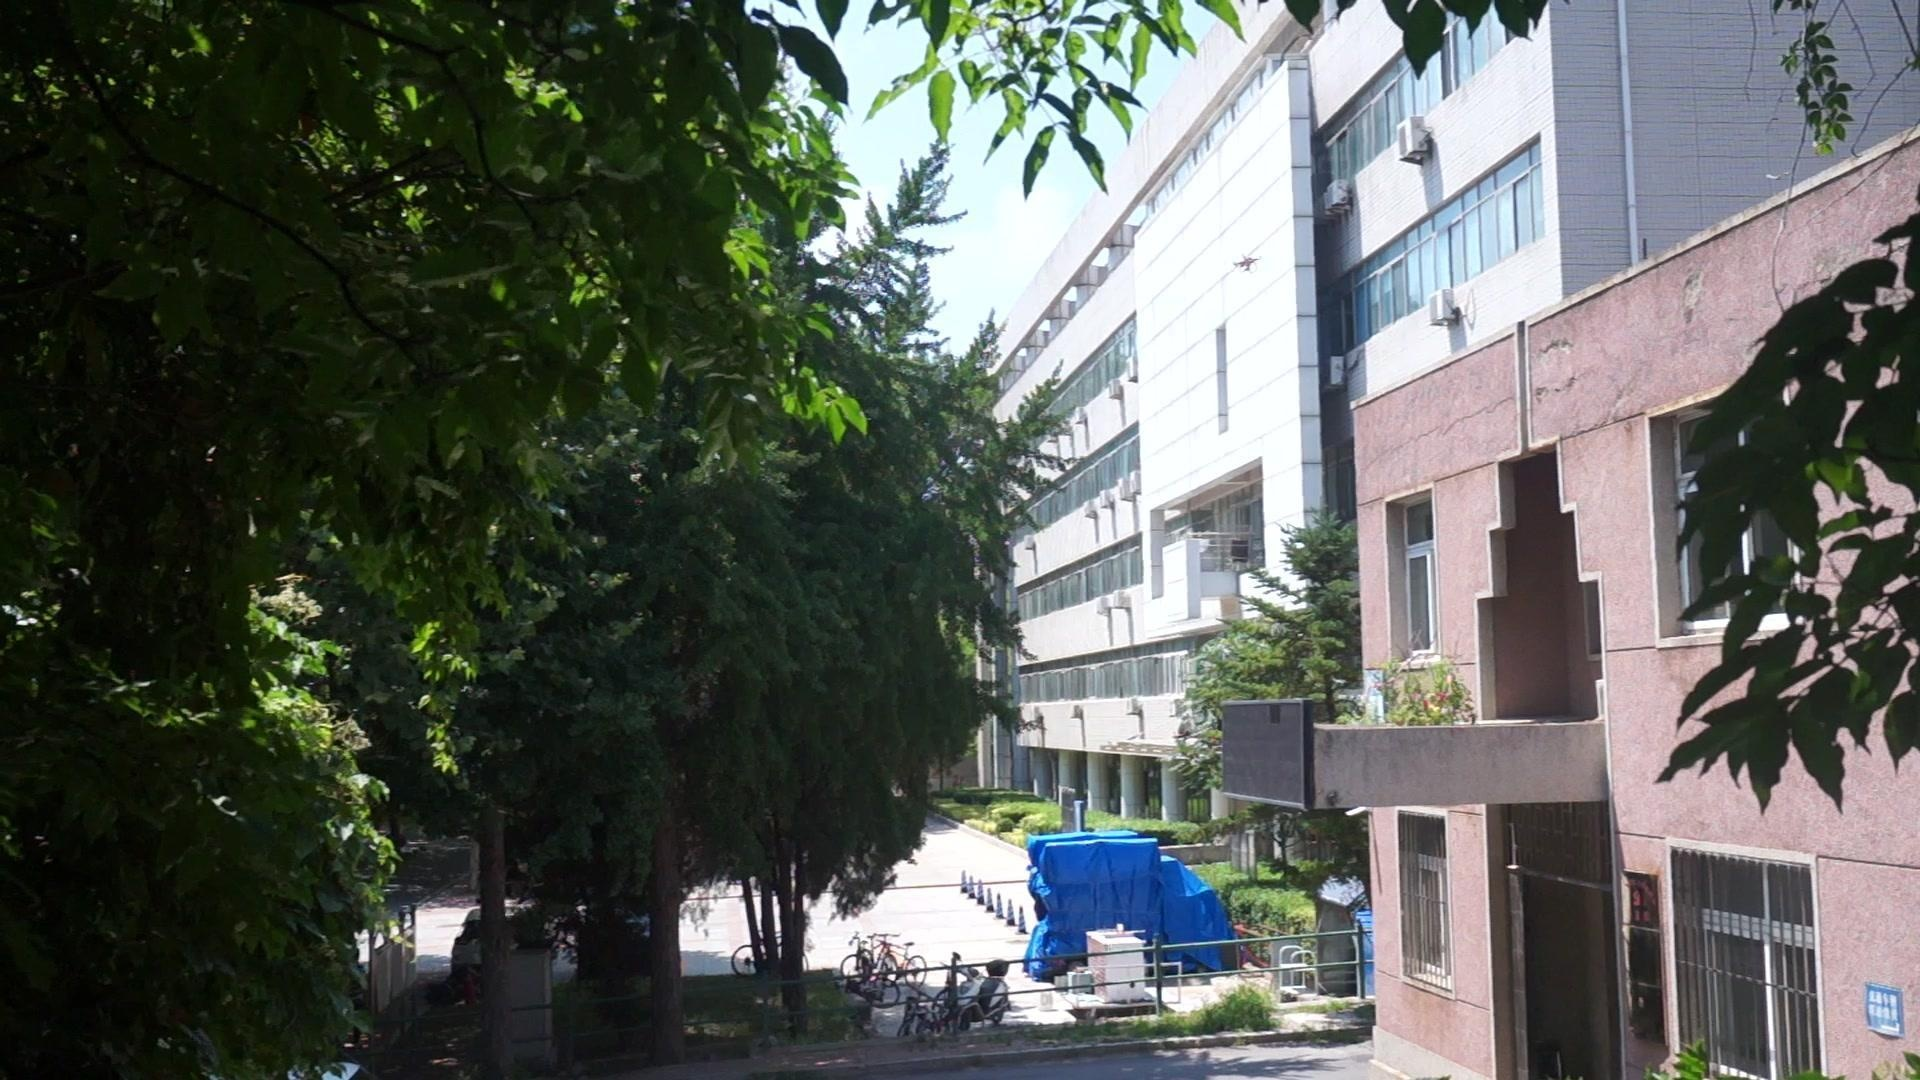UAV: (1233, 255, 1263, 274)
